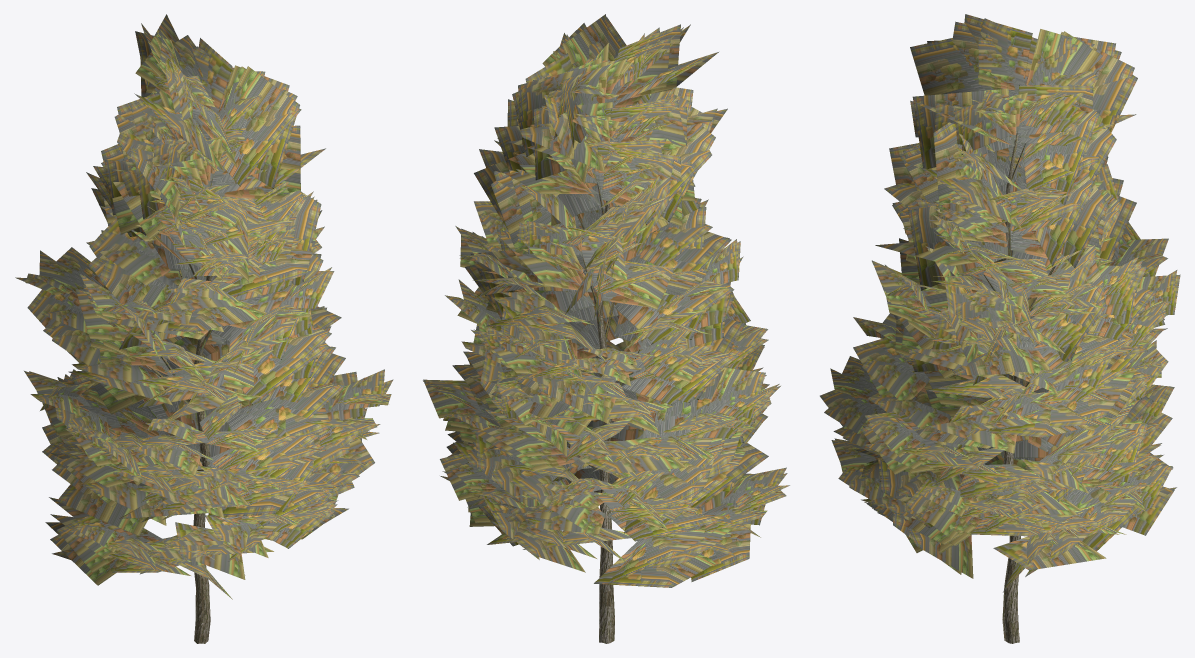
Rendered from Maple_1.FBX.
3 renders of one model, left to right at view 1: azimuth 30°, elevation 25°; view 2: azimuth 150°, elevation 25°; view 3: azimuth 270°, elevation 25°, orthographic. The views are drawn at different scales.
Visible parts, largest first — view 1: Tree_1; view 2: Tree_1; view 3: Tree_1.
Part boxes in pixels (x1,y1,x2,y2): Tree_1: (15, 14, 393, 643); Tree_1: (423, 14, 789, 643); Tree_1: (820, 14, 1180, 643).
Size of the model in its own units: 144 by 258 by 140.
